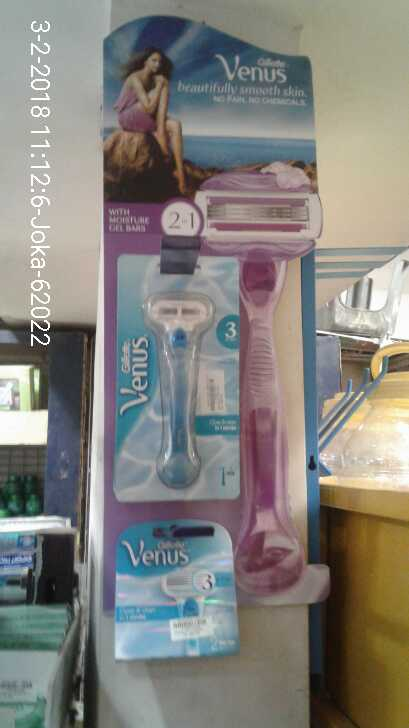venus: (117, 258, 241, 503), (116, 514, 240, 663)
